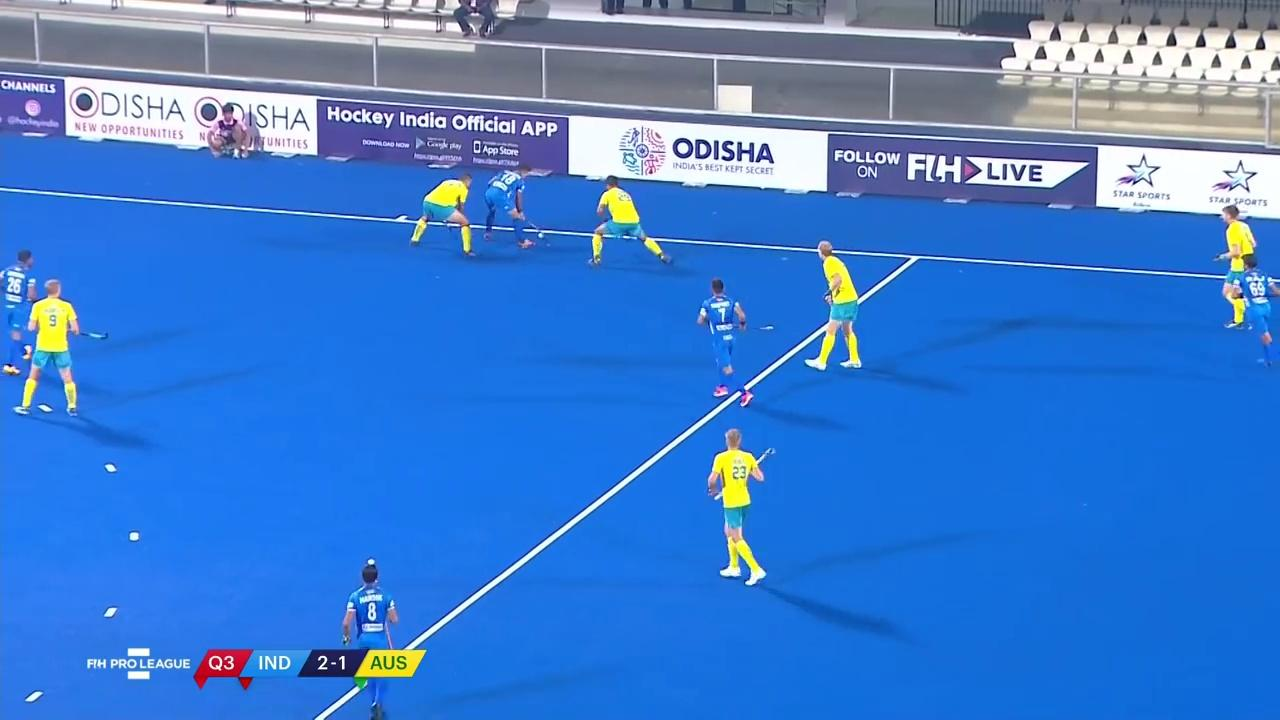ball: (531, 229, 550, 243)
